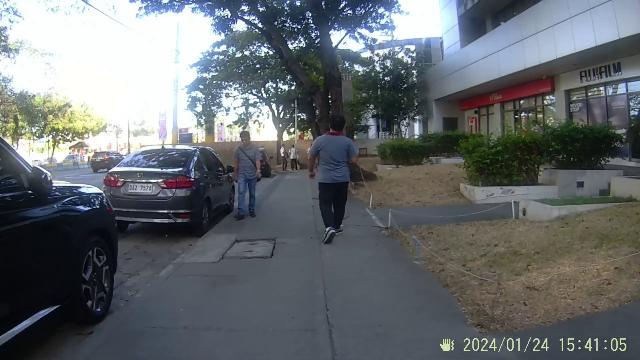car: (101, 146, 236, 229)
tree: (268, 15, 354, 115)
